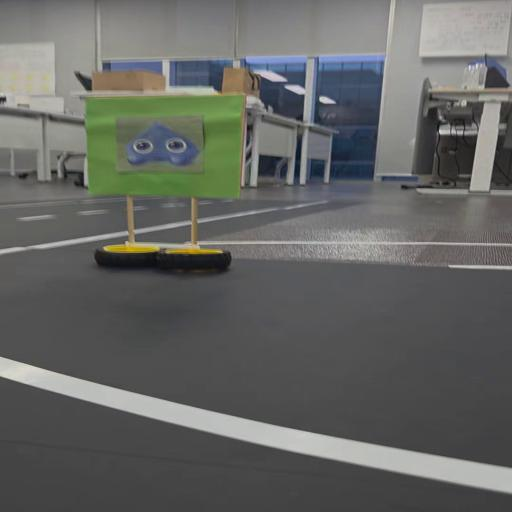Sign_B: (84, 94, 267, 277)
